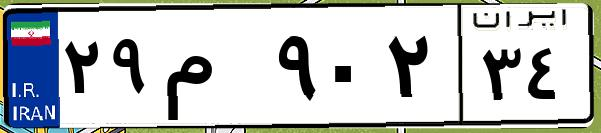0: (330, 28, 385, 110)
2: (385, 28, 445, 110), (57, 26, 110, 100)
3: (475, 38, 525, 113)
4: (525, 38, 570, 115)
9: (270, 28, 330, 110), (110, 28, 158, 98)
م: (158, 20, 270, 120)
